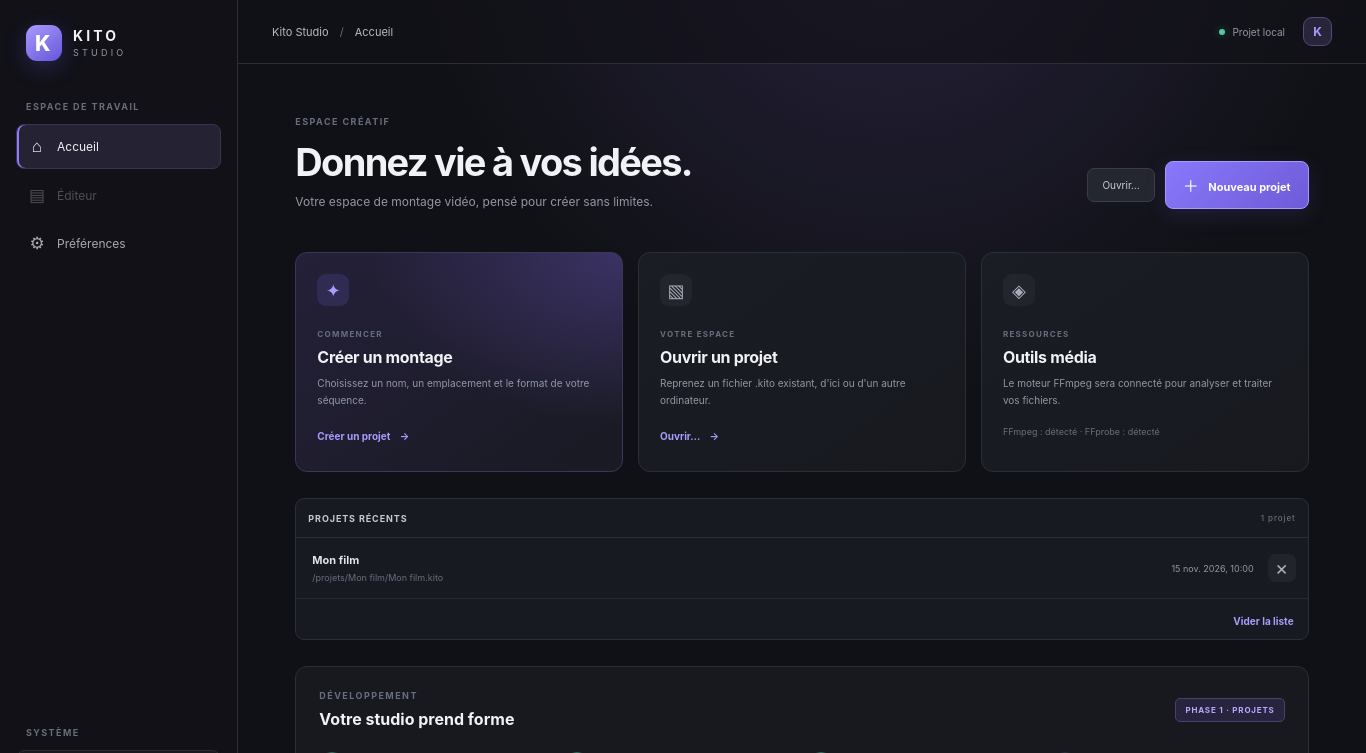
projet qui ne s'ouvre plus › ne propose rien quand il n'existe aucune copie automatique
The image size is (1366, 753).
Click the text "Mon film" at (336, 560), box [312,553,359,567]
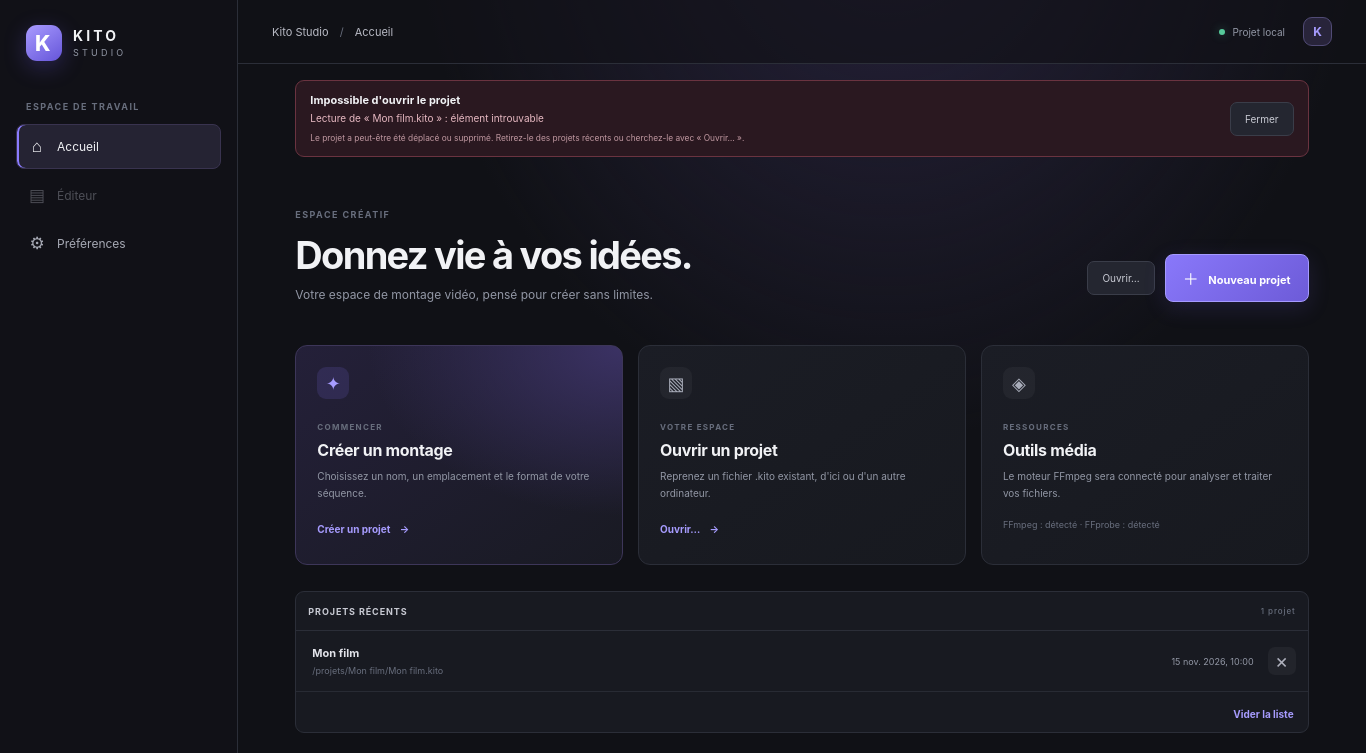
Result: the message shows "introuvable" at [310,112,544,124]
